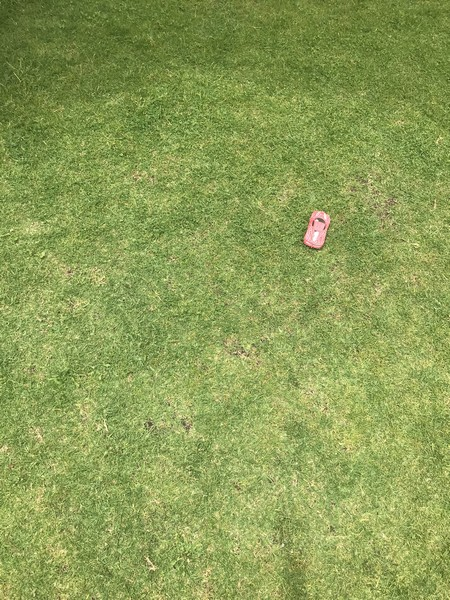RC: (301, 209, 332, 252)
